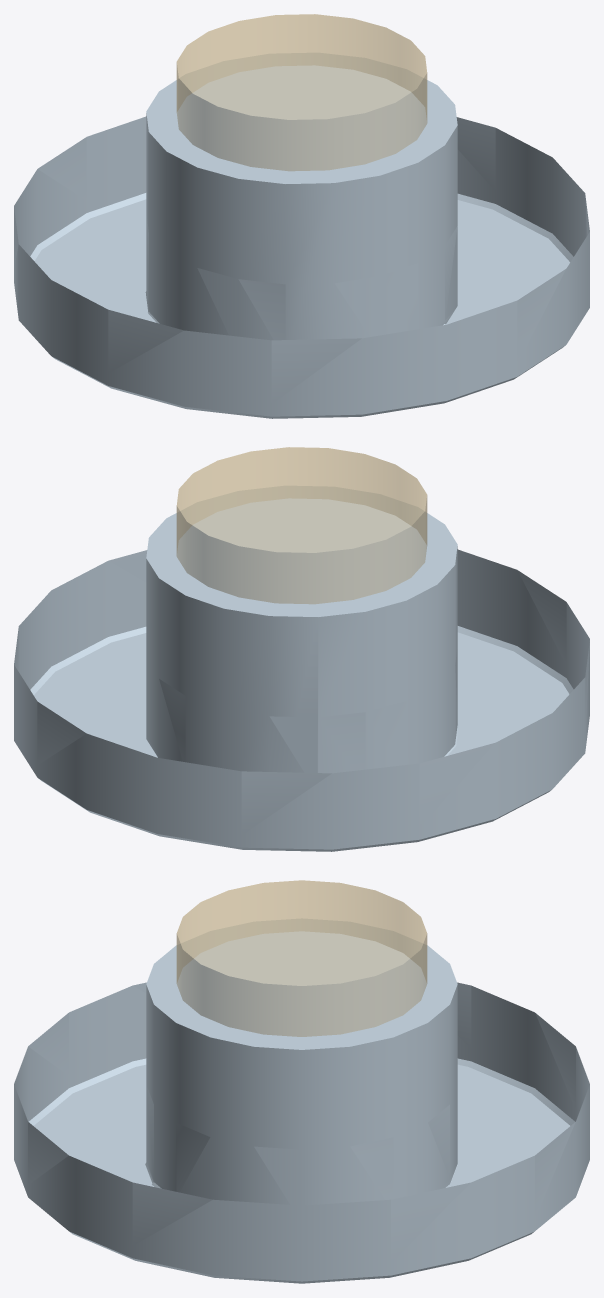
Rendered from Ceiling_Light.fbx.
3 renders of one model, top to bottom at view 1: azimuth 30°, elevation 25°; view 2: azimuth 150°, elevation 25°; view 3: azimuth 270°, elevation 25°, orthographic.
Visible parts, largest first — view 1: Ceiling_Light; view 2: Ceiling_Light; view 3: Ceiling_Light.
Boxes of the visible parts, x1=… form: Ceiling_Light: x1=14, y1=14, x2=589, y2=418; Ceiling_Light: x1=14, y1=447, x2=589, y2=851; Ceiling_Light: x1=14, y1=880, x2=589, y2=1283.
Size of what is drawn, in the model's own units: 3.41 by 1.59 by 3.41.
